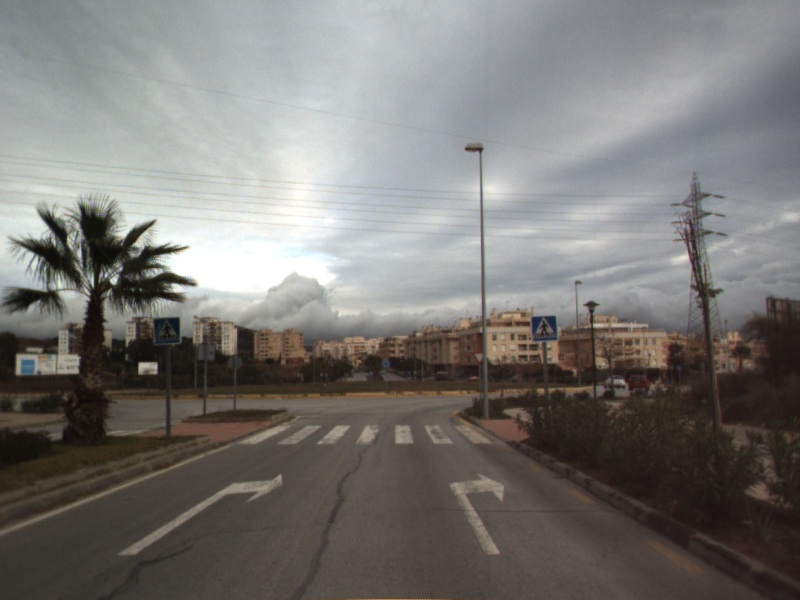RIGHT: (116, 471, 284, 557), (447, 471, 506, 557)
